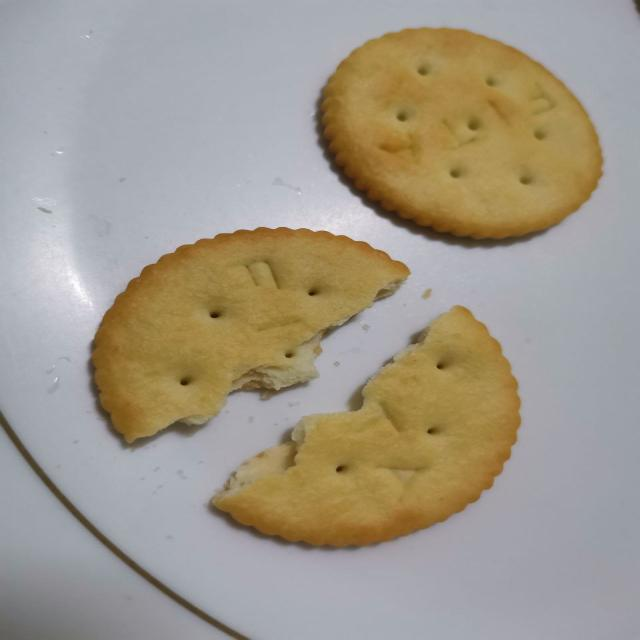broken biscuit: (208, 304, 522, 548), (88, 224, 411, 443)
intact biscuit: (314, 25, 605, 242)
